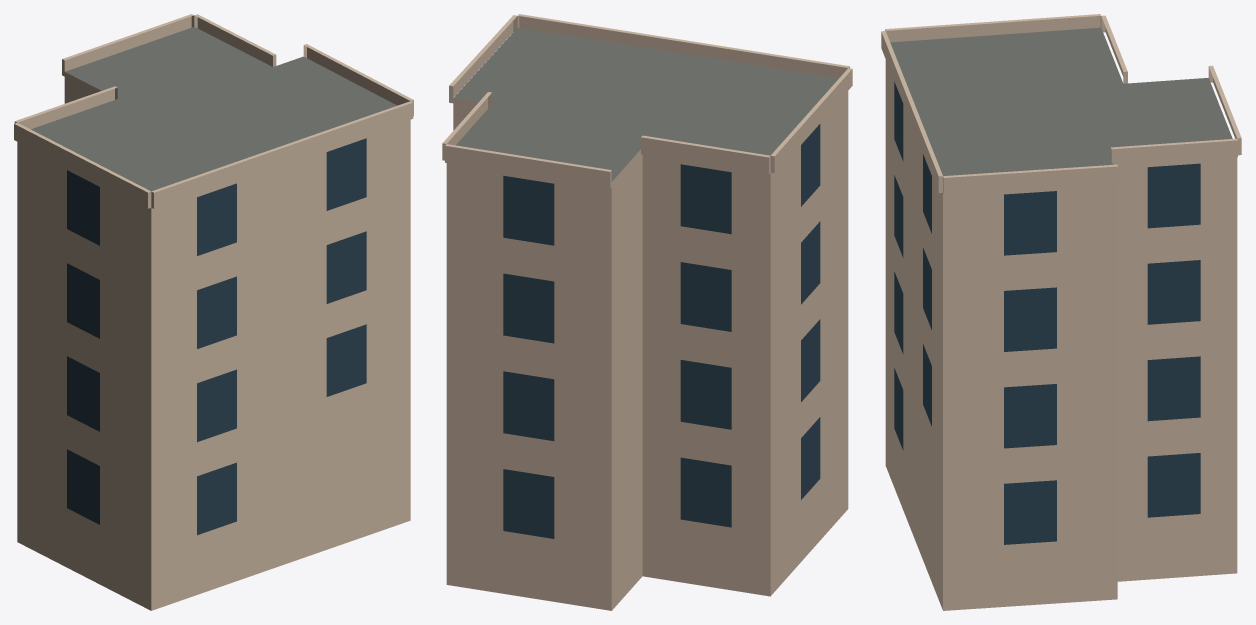
3 renders of one model, left to right at view 1: azimuth 30°, elevation 25°; view 2: azimuth 150°, elevation 25°; view 3: azimuth 270°, elevation 25°, orthographic. The views are drawn at different scales.
Visible parts, largest first — view 1: Footprint 0 / surface 2, Footprint 0 / surface 1, Inset glazing, Facade bay volumes; view 2: Footprint 0 / surface 2, Footprint 0 / surface 1, Inset glazing, Facade bay volumes; view 3: Footprint 0 / surface 2, Footprint 0 / surface 1, Inset glazing, Facade bay volumes.
Part boxes in pixels (x1,y1,x2,y2): Footprint 0 / surface 2: [17, 72, 410, 610]; Footprint 0 / surface 1: [31, 26, 396, 191]; Inset glazing: [67, 138, 366, 535]; Facade bay volumes: [14, 14, 413, 208]; Footprint 0 / surface 2: [446, 91, 848, 610]; Footprint 0 / surface 1: [453, 28, 838, 181]; Inset glazing: [503, 124, 820, 538]; Facade bay volumes: [442, 14, 852, 188]; Footprint 0 / surface 2: [885, 60, 1237, 610]; Footprint 0 / surface 1: [890, 27, 1232, 175]; Inset glazing: [894, 81, 1200, 544]; Facade bay volumes: [881, 14, 1241, 194].
Bounding box in the file's own units: 10.47 × 12.94 × 9.72.
